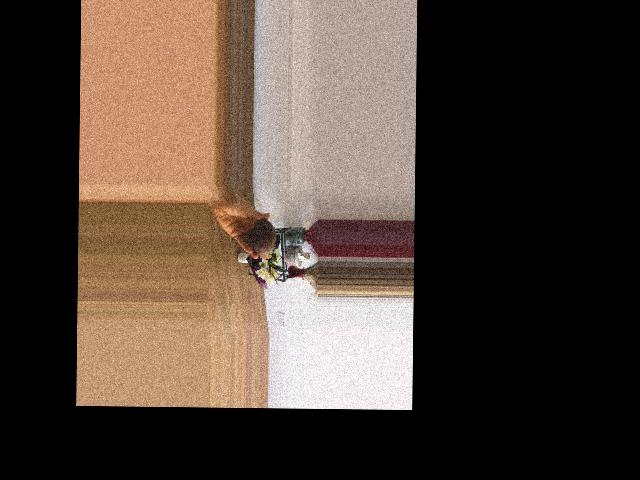beet: (231, 220, 280, 256)
